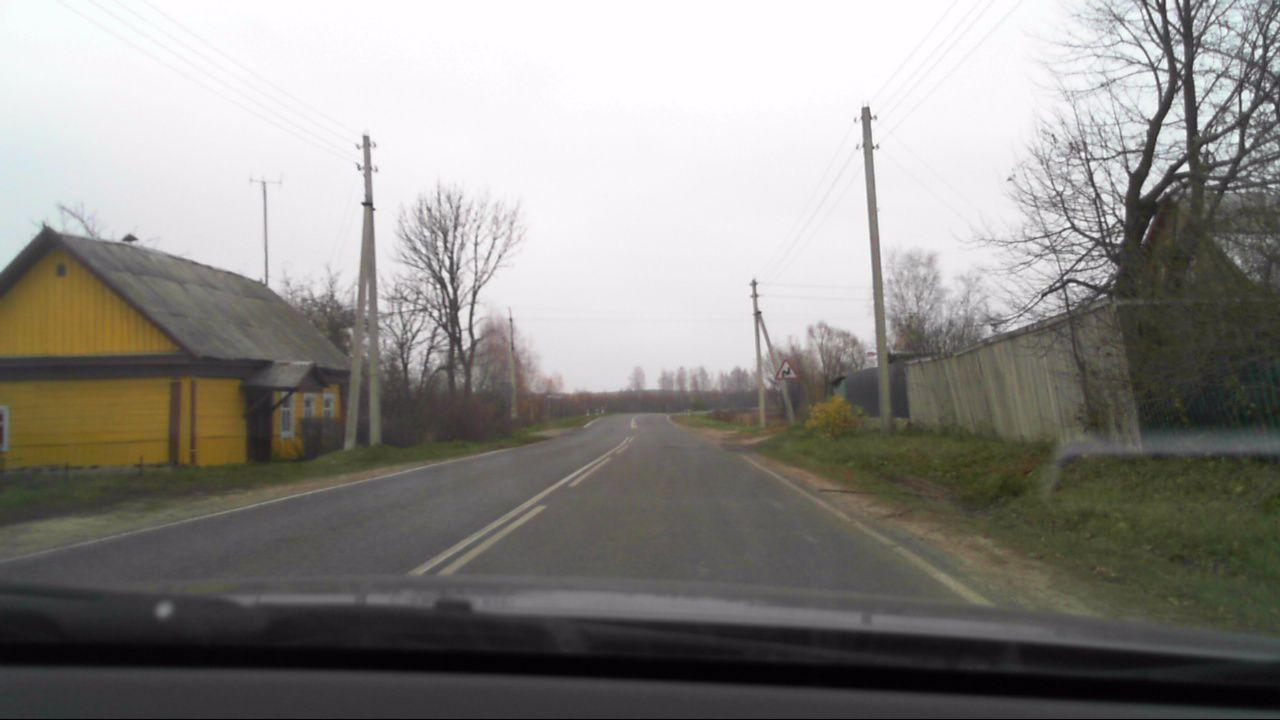1_12_1: (774, 358, 798, 378)
